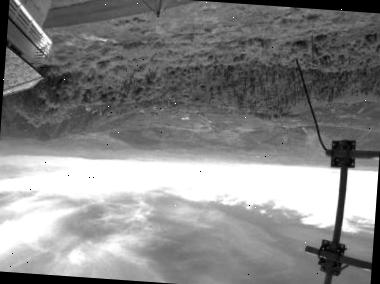smoke: (295, 124, 331, 169)
